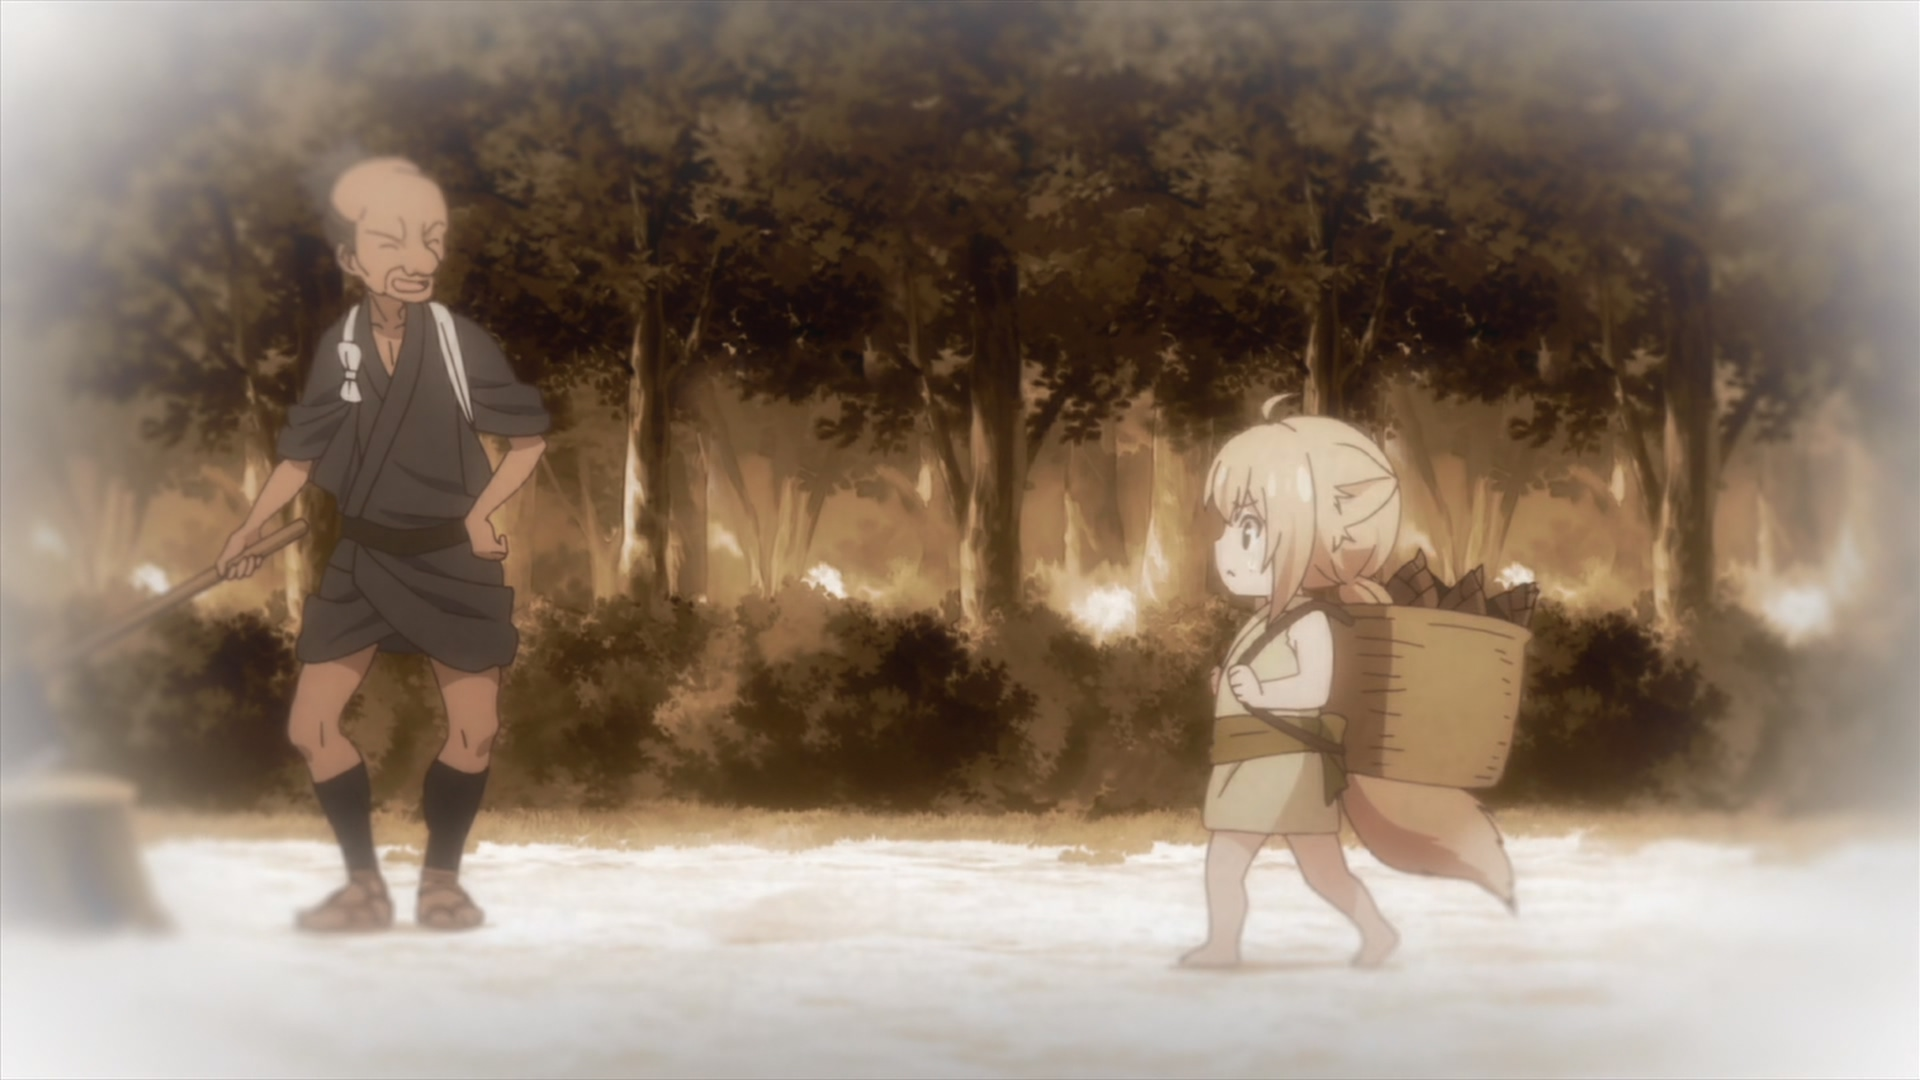其他: (216, 156, 547, 934)
柚: (1179, 389, 1519, 971)
